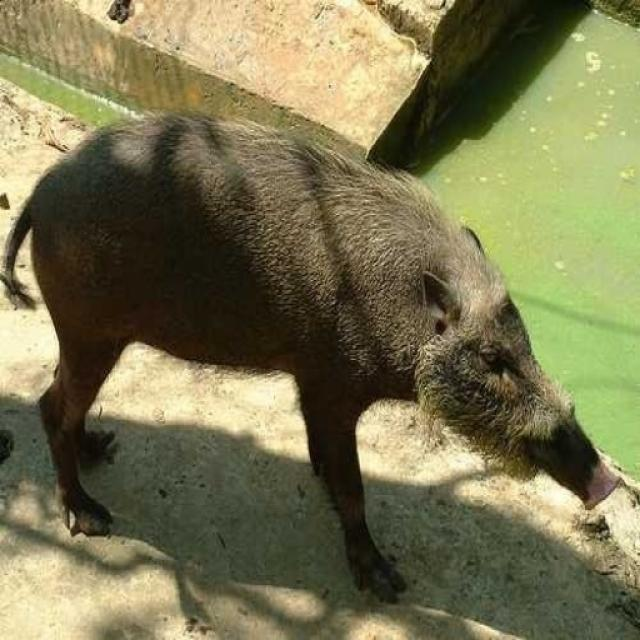pig: (16, 84, 622, 612)
